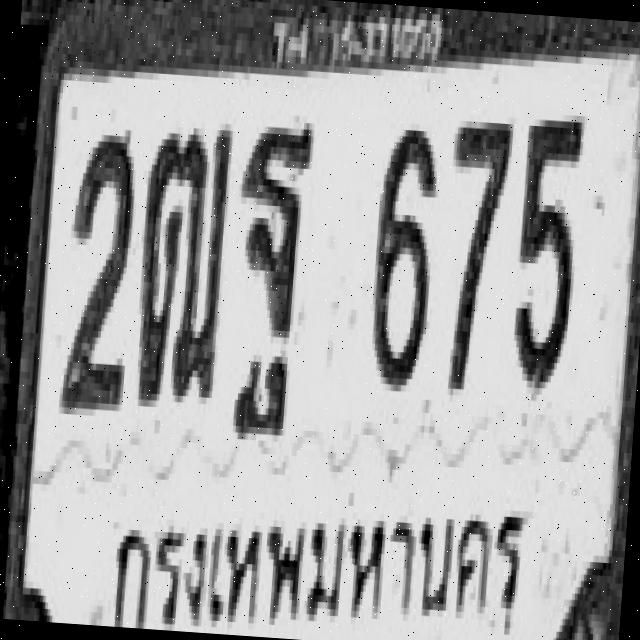2: (59, 126, 138, 411)
25ThorThan: (228, 118, 314, 390)
27ThorPhuThao: (133, 118, 233, 404)
5: (508, 112, 584, 390)
6: (367, 122, 440, 386)
7: (436, 113, 514, 391)
Bangkok: (102, 464, 528, 640)
